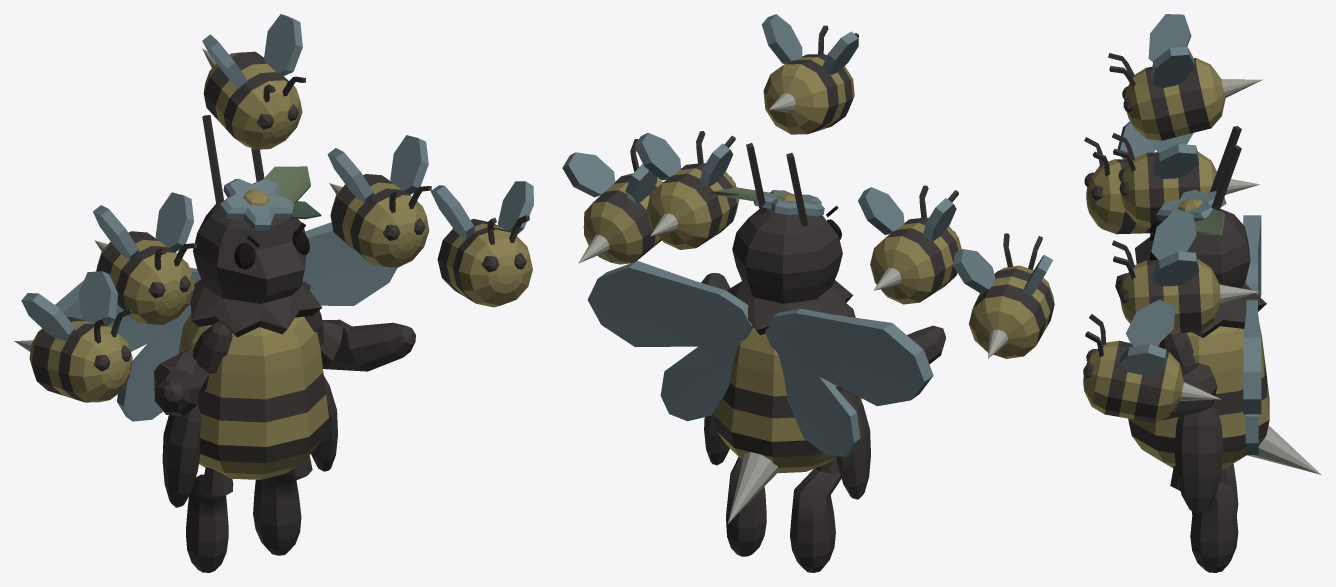
Rendered from Bee_RandomCapt1.fbx.
3 views of the same model, side by side, from view 1: azimuth 30°, elevation 25°; view 2: azimuth 150°, elevation 25°; view 3: azimuth 270°, elevation 25° (orthographic). The views are drawn at different scales.
Parts seen in each view (by area): view 1: RandomCapt_1; view 2: RandomCapt_1; view 3: RandomCapt_1.
Boxes of the visible parts, bbox=[...] form: RandomCapt_1: bbox=[14, 14, 533, 572]; RandomCapt_1: bbox=[562, 14, 1054, 572]; RandomCapt_1: bbox=[1083, 14, 1321, 572].
Bounding box in the file's own units: 7.38 × 7.71 × 3.21.
